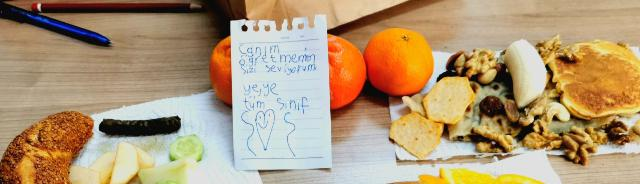Kagit: (227, 16, 338, 178)
Organik: (376, 48, 640, 168), (0, 104, 96, 184), (72, 134, 208, 184), (361, 24, 436, 103), (98, 113, 186, 142)
